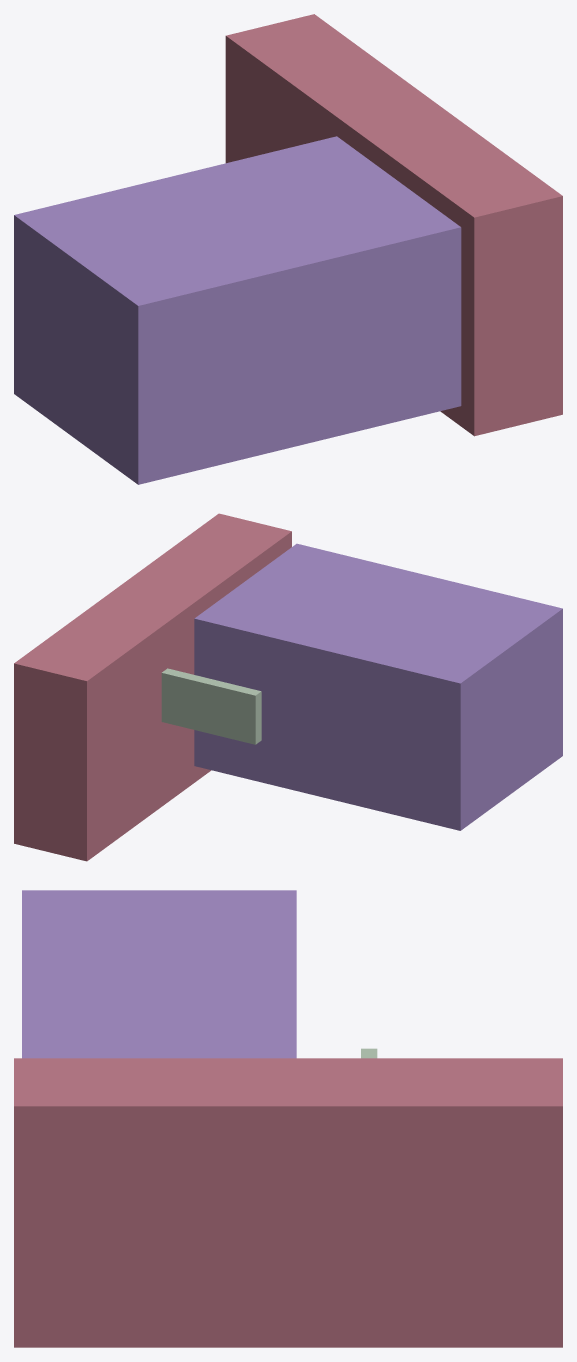
The picture shows the model from 3 angles, top to bottom: view 1: azimuth 30°, elevation 25°; view 2: azimuth 150°, elevation 25°; view 3: azimuth 270°, elevation 25°; orthographic projection. The views are drawn at different scales.
Visible parts, largest first — view 1: world; view 2: world; view 3: world.
Boxes of the visible parts, x1=… form: world: x1=14, y1=14, x2=562, y2=484; world: x1=14, y1=513, x2=562, y2=861; world: x1=14, y1=890, x2=562, y2=1347.
Size of the model in its own units: 6.65 by 3.3 by 6.8.
